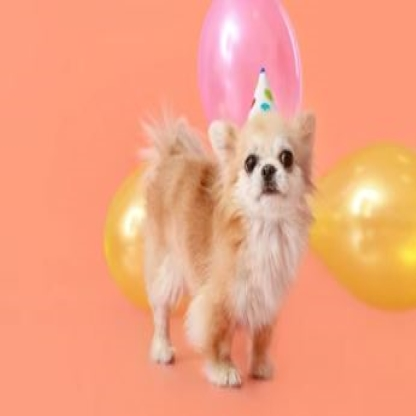chihuahua: (138, 102, 328, 397)
